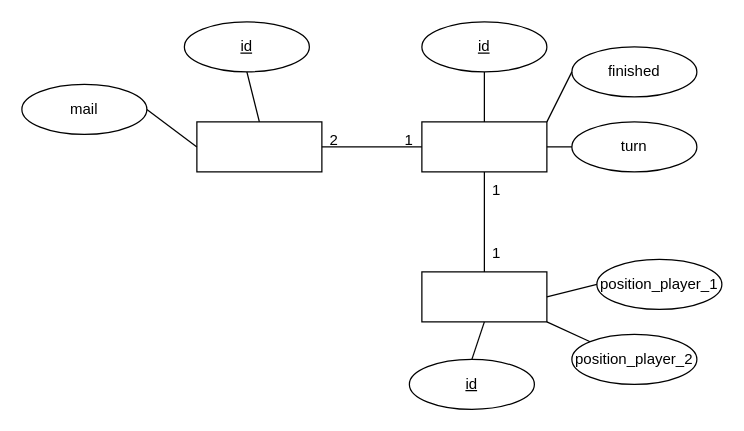
Image size: 744x431. Some labels were removed from this diagram. Each missing label, with the box of its shape:
Board: (421, 271, 547, 322)
Game: (421, 121, 547, 172)
Player: (196, 121, 322, 172)
